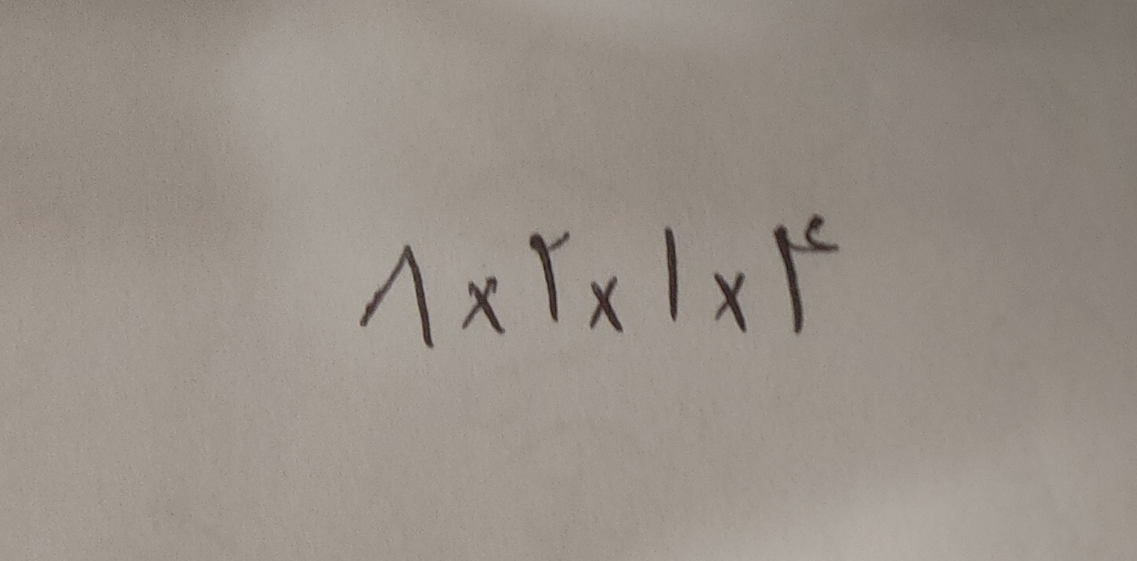character: (773, 211, 854, 344), (359, 242, 446, 359), (527, 231, 582, 340), (662, 225, 698, 338), (712, 268, 759, 350), (460, 277, 511, 348), (588, 276, 639, 347)
